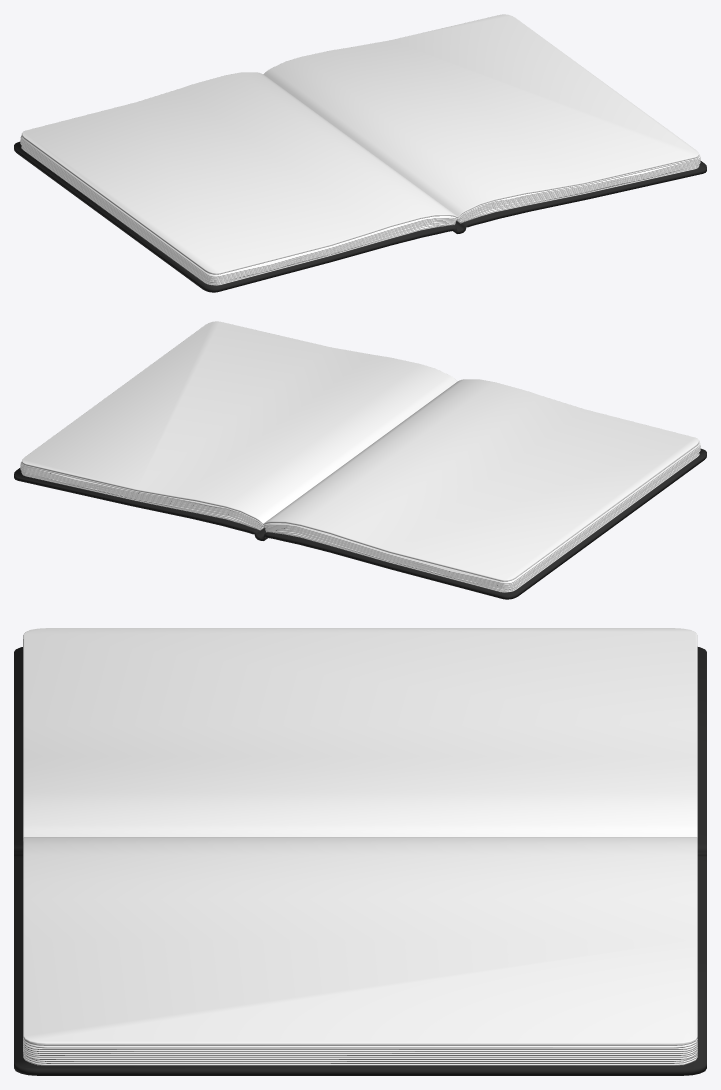
The model's file is Book.gltf.
The picture shows the model from 3 angles, top to bottom: view 1: azimuth 30°, elevation 25°; view 2: azimuth 150°, elevation 25°; view 3: azimuth 270°, elevation 25°; orthographic projection. The views are drawn at different scales.
Parts seen in each view (by area): view 1: Book; view 2: Book; view 3: Book.
Part boxes in pixels (<box>): Book: <box>14,14,706,292</box>; Book: <box>14,321,706,599</box>; Book: <box>14,628,706,1075</box>.
Bounding box in the file's own units: 2.98 × 0.1333 × 2.06.
Materials: 2 (1 with a texture image).
